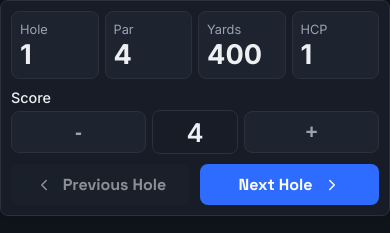
Scenario: LiveRoundSessionClient autosave navigation › waits for an active score save and advances from the first Next Hole tap
Click the button "+". click: (312, 132)
box: [244, 112, 379, 154]
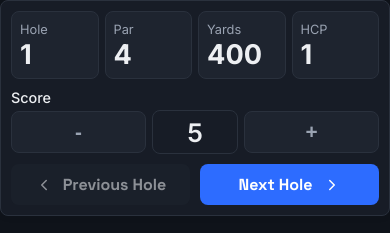
Click the button "Next Hole". click: (290, 185)
box: [200, 164, 379, 206]
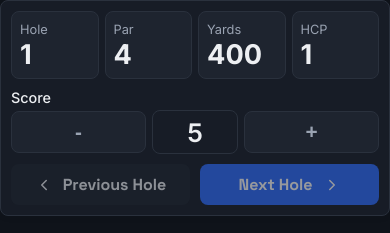
expect the button "Next Hole" is disabled: met
Click the button "Next Hole". click: (290, 185)
box: [200, 164, 379, 206]
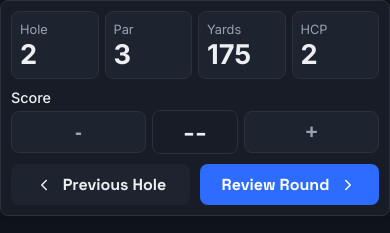
expect the button "Review Round" is shown: met, box [200, 164, 379, 206]
